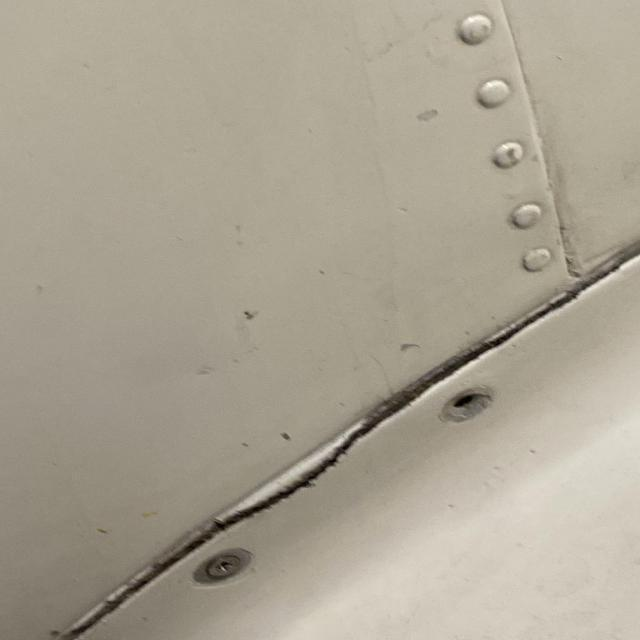Crack: (201, 412, 400, 546), (41, 552, 173, 640)
Missing-head: (443, 389, 493, 423)
Paint-off: (415, 108, 439, 122)
